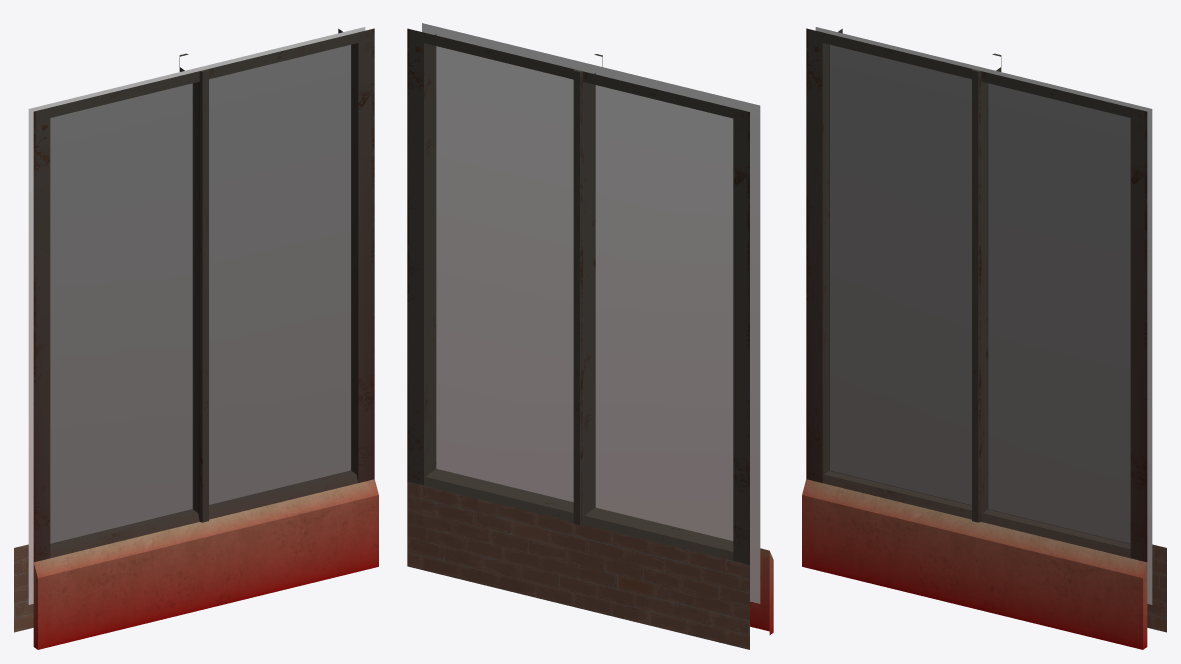
Rendered from Metal_FirstFloor_Window.gltf.
3 renders of one model, left to right at view 1: azimuth 30°, elevation 25°; view 2: azimuth 150°, elevation 25°; view 3: azimuth 330°, elevation 25°, orthographic.
Parts seen in each view (by area): view 1: Metal_FirstFloor_Window; view 2: Metal_FirstFloor_Window; view 3: Metal_FirstFloor_Window.
Boxes of the visible parts, left/top/right/bottom form: Metal_FirstFloor_Window: left=14, top=27, right=378, bottom=649; Metal_FirstFloor_Window: left=407, top=23, right=773, bottom=649; Metal_FirstFloor_Window: left=802, top=27, right=1166, bottom=649.
Size of the model in its own units: 2 by 3 by 0.2588.
5 materials, 3 textured.
